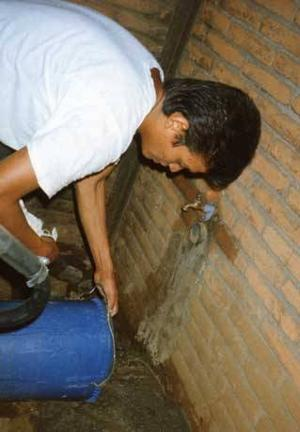person: (2, 4, 261, 315)
